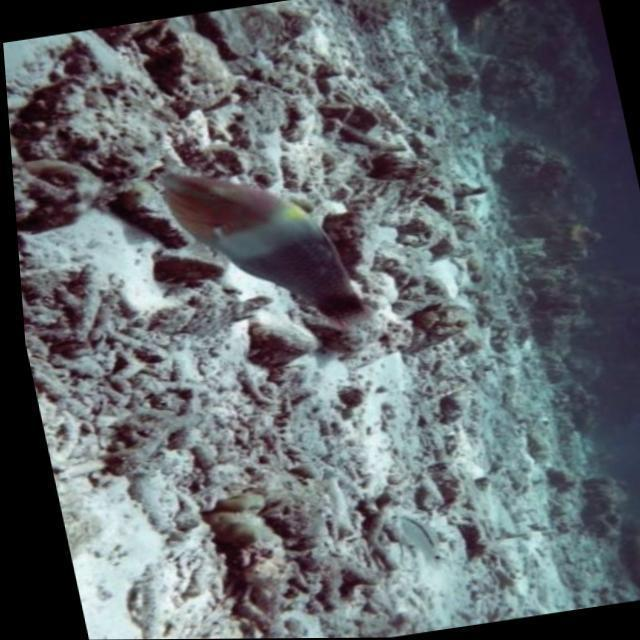Dead Coral: (354, 8, 591, 567), (14, 241, 268, 515), (193, 467, 442, 639)
